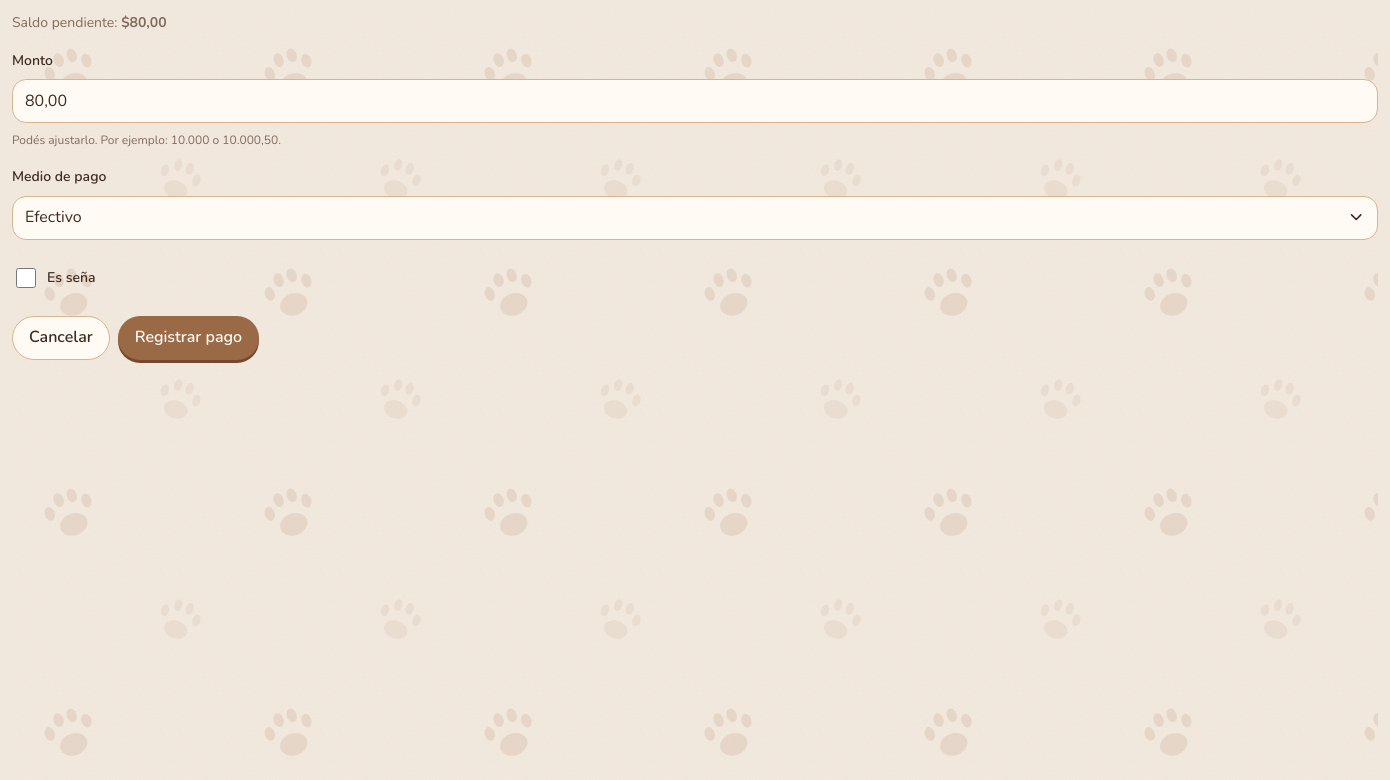
Scenario: FormularioPago › muestra el saldo restante cuando la API rechaza por saldo insuficiente
The image size is (1390, 780).
Replace the text in the field labelled "Monto" with "120". click: (695, 101)
box: [12,79,1378,123]
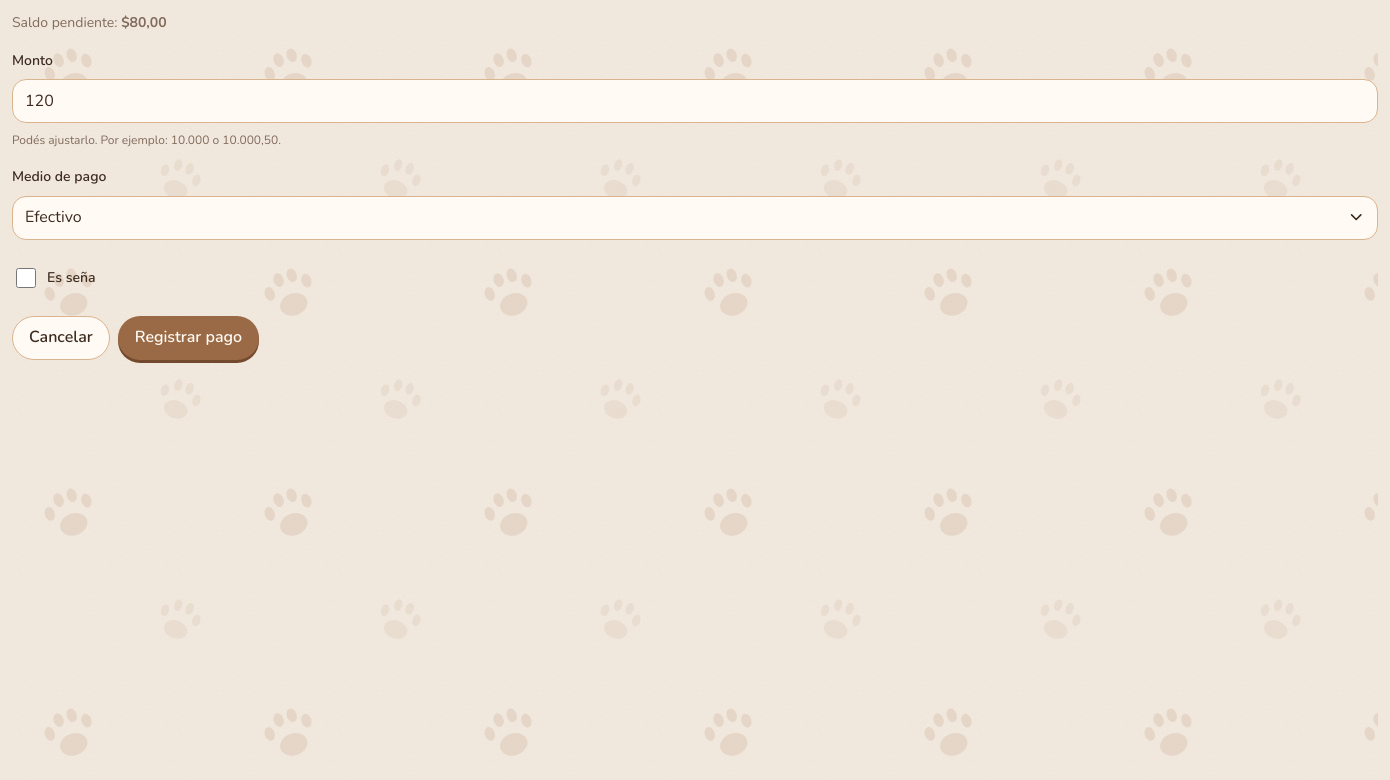
Click the button "Registrar pago". click: (188, 338)
box: [118,316,259,360]
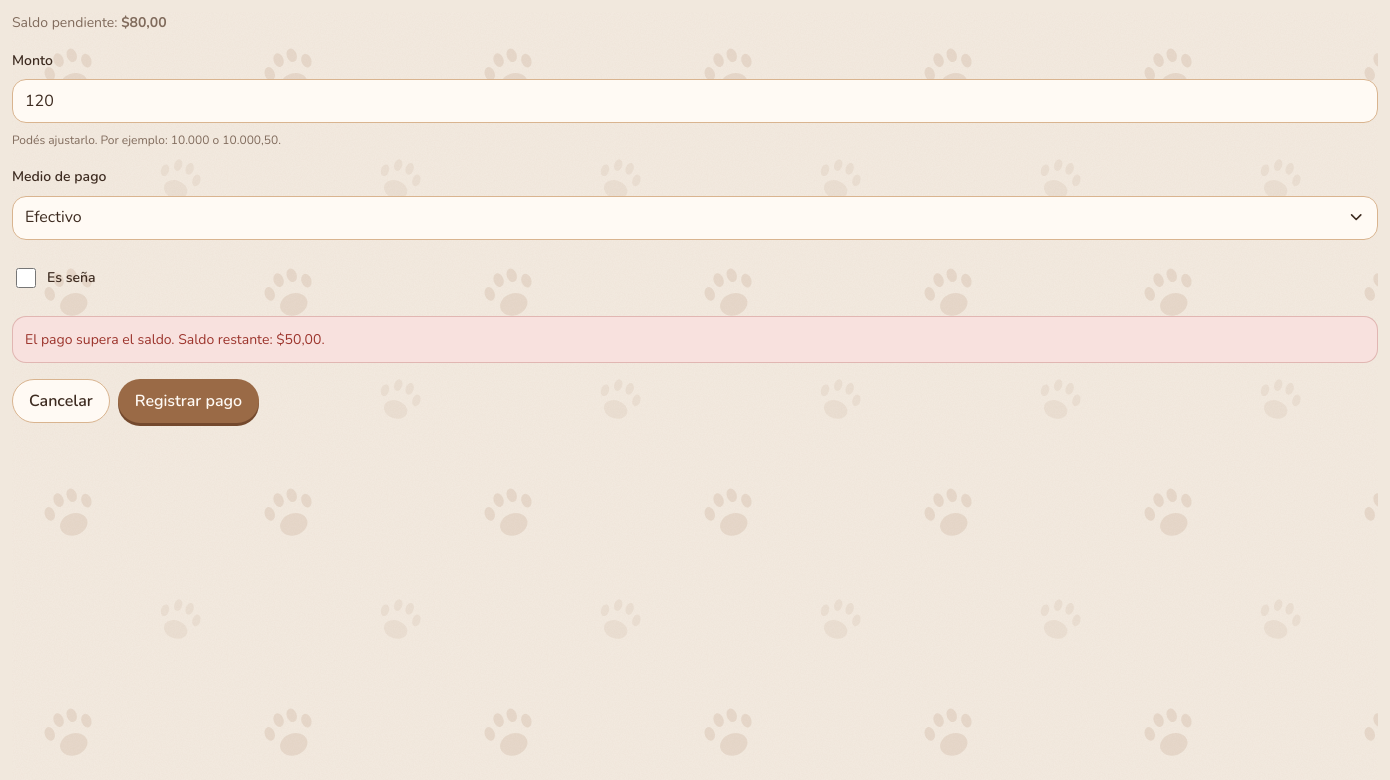
Check: the message reads "El pago supera el saldo. Saldo restante: $50,00.", box [25,330,325,349]
